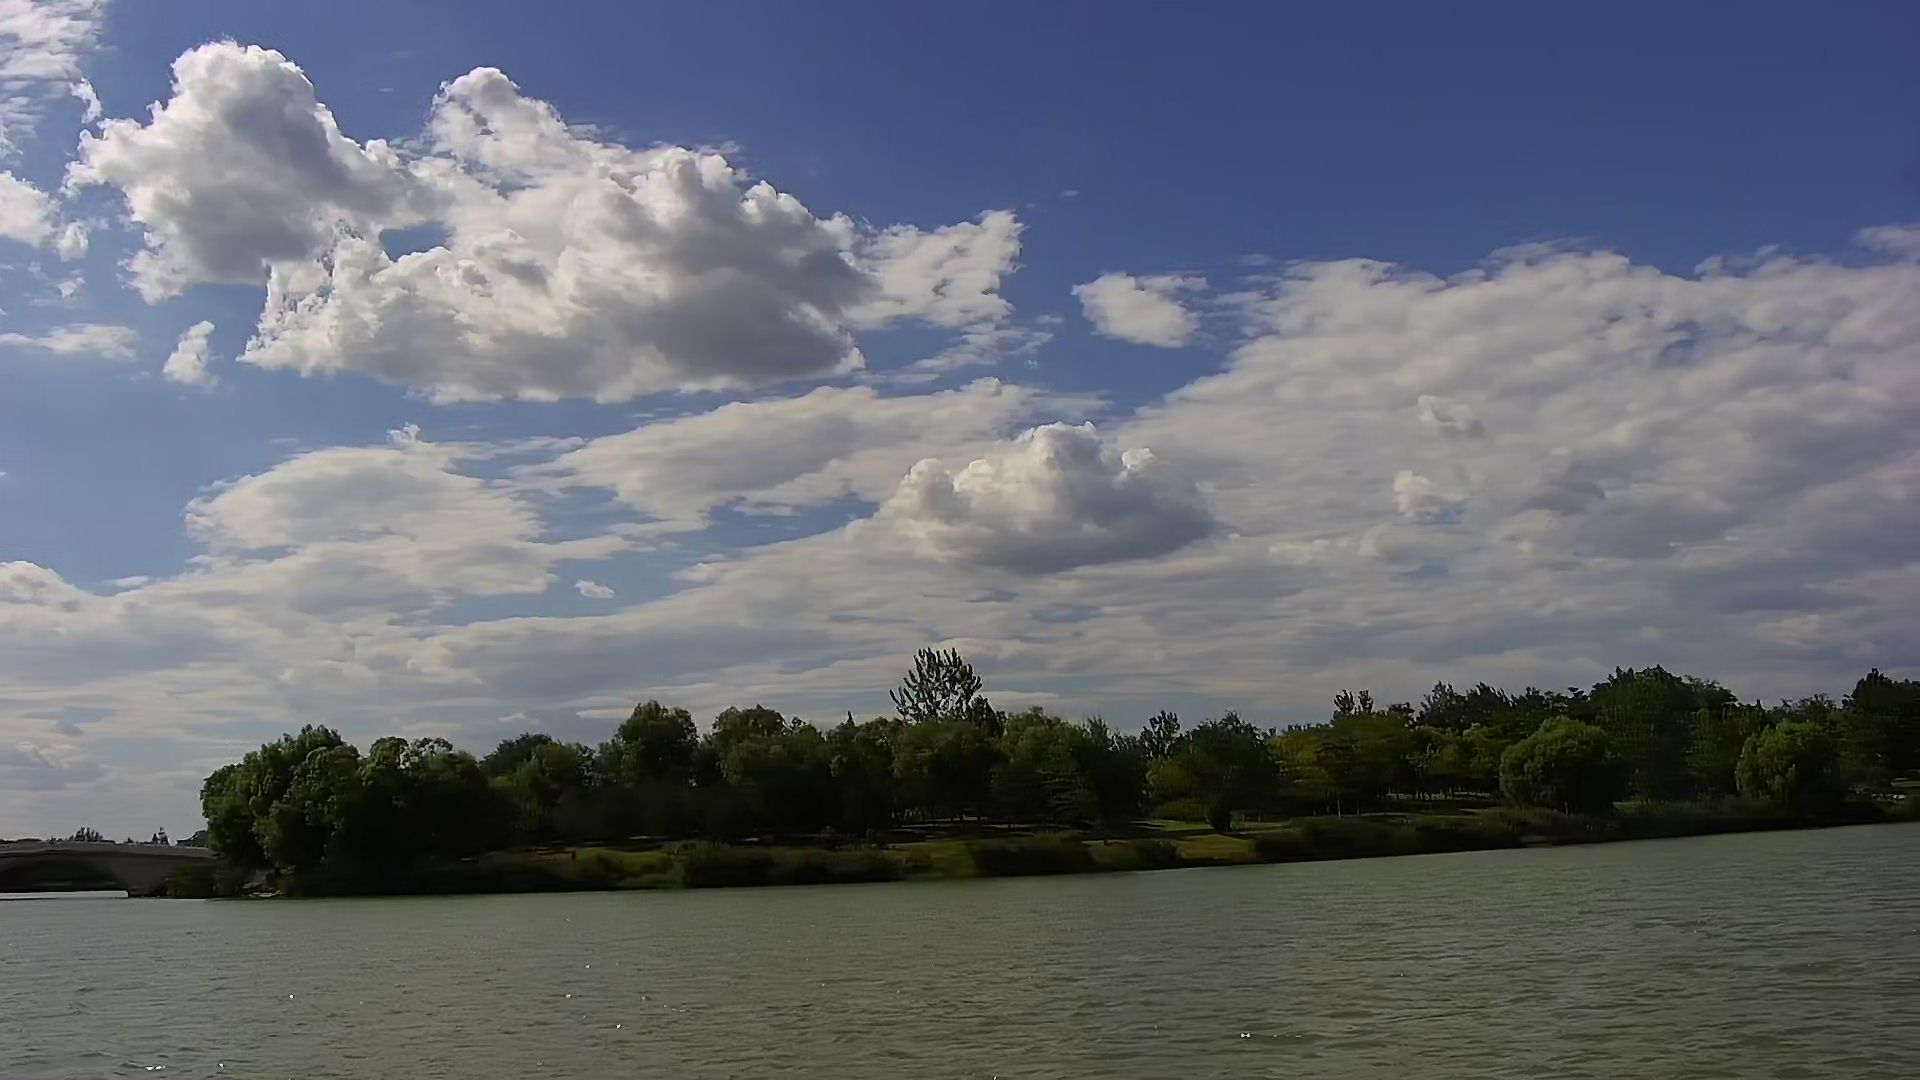bridge: (3, 844, 211, 905)
